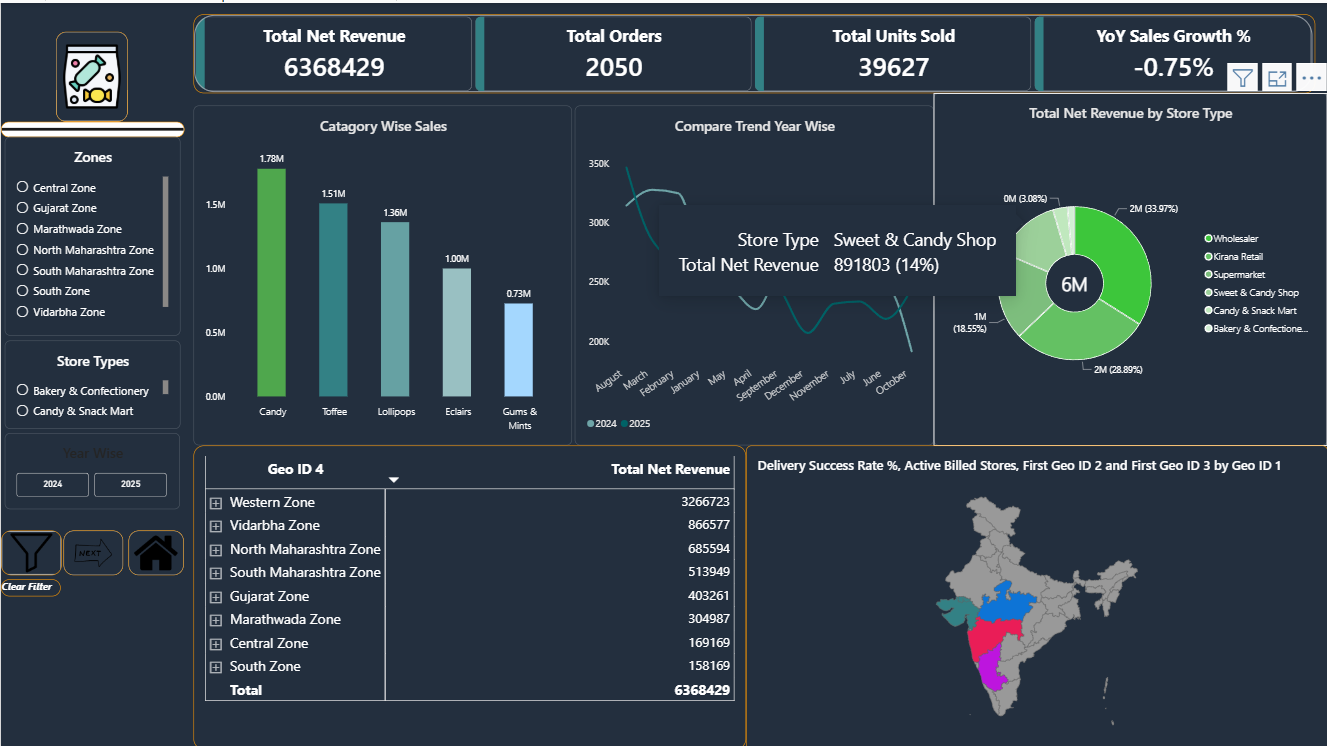

The dashboard page shown, as its layout file describes it:
{"tool":"powerbi","page":{"name":"Page 1","canvas":[1920,1080],"ordinal":0},"visuals":[{"type":"cardVisual","fields":{"Data":["Fact_Sales_Orders.Total Net Revenue","Fact_Sales_Orders.Total Orders","Fact_Sales_Orders.Total Units Sold","Fact_Sales_Orders.YoY Sales Growth %"]},"box":[278,16,1624,114],"z":1000},{"type":"clusteredColumnChart","title":"Catagory Wise Sales","fields":{"Category":["Dim_Product.Category"],"Y":["Fact_Sales_Orders.Total Net Revenue"]},"box":[278,148,548,492],"z":2000},{"type":"lineChart","title":"Compare Trend Year Wise","fields":{"Category":["Fact_Sales_Orders.Order Month"],"Series":["Fact_Sales_Orders.Order Year"],"Y":["Fact_Sales_Orders.Total Net Revenue"]},"box":[830,148,520,492],"z":3000},{"type":"pivotTable","fields":{"Rows":["Dim_Geography.Geo ID 4","Dim_Geography.Geo ID 2"],"Values":["Fact_Sales_Orders.Total Net Revenue"]},"box":[278,640,800,440],"z":4000},{"type":"image","box":[80,42,104.3,130],"z":5000},{"type":"shape","box":[0,171.4,265.7,22.1],"z":6000},{"type":"listSlicer","title":"Zones","fields":{"Values":["Dim_Sales_Team.Zone"]},"box":[6,194,254,288],"z":7000},{"type":"listSlicer","title":"Store Types","fields":{"Values":["Dim_Customers.Store Type"]},"box":[6,488,254,128],"z":8000},{"type":"advancedSlicerVisual","title":"Year Wise","fields":{"Values":["Fact_Sales_Orders.Order Date.Variation.Date Hierarchy.Year"]},"box":[6.2,622.5,253.8,110],"z":9000},{"type":"image","box":[185,763.3,80,65],"z":10000},{"type":"image","box":[0,763.3,88.3,65],"z":11000},{"type":"image","box":[90,763.3,86.7,65],"z":12000},{"type":"textbox","box":[0,835,86.7,25],"z":13000},{"type":"donutChart","fields":{"Category":["Dim_Customers.Store Type"],"Y":["Fact_Sales_Orders.Total Net Revenue"]},"box":[1350,130,570,510],"z":14000},{"type":"shapeMap","fields":{"Category":["Dim_Geography.Geo ID 1"]},"box":[1078,640,842.5,440],"z":15000}]}

Visuals, with their boxes in screenshot pixels (x1, y1, x2, y2), scaled from the page's 1920x1080 canvas onto the 1327x746 screenshot:
cardVisual - Fact_Sales_Orders.Total Net Revenue x Fact_Sales_Orders.Total Orders: {"x1": 192, "y1": 11, "x2": 1315, "y2": 90}
"Catagory Wise Sales" clusteredColumnChart: {"x1": 192, "y1": 102, "x2": 571, "y2": 442}
"Compare Trend Year Wise" lineChart: {"x1": 574, "y1": 102, "x2": 933, "y2": 442}
pivotTable - Dim_Geography.Geo ID 4 x Dim_Geography.Geo ID 2: {"x1": 192, "y1": 442, "x2": 745, "y2": 745}
image: {"x1": 55, "y1": 29, "x2": 127, "y2": 119}
shape: {"x1": 0, "y1": 118, "x2": 184, "y2": 134}
"Zones" listSlicer: {"x1": 4, "y1": 134, "x2": 180, "y2": 333}
"Store Types" listSlicer: {"x1": 4, "y1": 337, "x2": 180, "y2": 425}
"Year Wise" advancedSlicerVisual: {"x1": 4, "y1": 430, "x2": 180, "y2": 506}
image: {"x1": 128, "y1": 527, "x2": 183, "y2": 572}
image: {"x1": 0, "y1": 527, "x2": 61, "y2": 572}
image: {"x1": 62, "y1": 527, "x2": 122, "y2": 572}
textbox: {"x1": 0, "y1": 577, "x2": 60, "y2": 594}
donutChart - Dim_Customers.Store Type x Fact_Sales_Orders.Total Net Revenue: {"x1": 933, "y1": 90, "x2": 1326, "y2": 442}
shapeMap - Dim_Geography.Geo ID 1: {"x1": 745, "y1": 442, "x2": 1326, "y2": 745}
